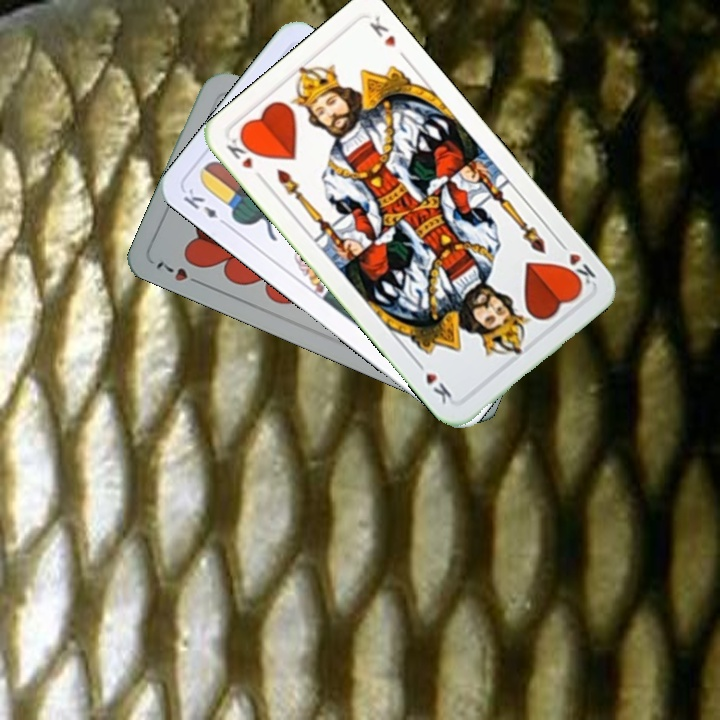EK: (179, 184, 231, 230)
H7: (152, 257, 207, 289)
HK: (222, 131, 268, 185), (554, 236, 598, 291)
